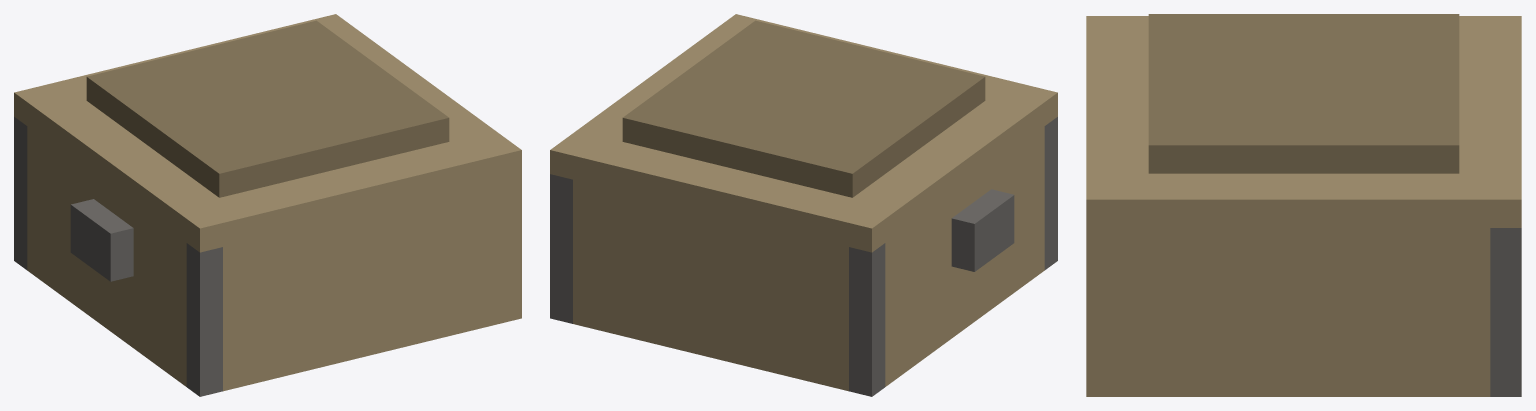
File: caja_madera_rota_01.glb
3 views of the same model, side by side, from view 1: azimuth 30°, elevation 25°; view 2: azimuth 150°, elevation 25°; view 3: azimuth 270°, elevation 25° (orthographic). The views are drawn at different scales.
Parts seen in each view (by area): view 1: caja_madera_rota; view 2: caja_madera_rota; view 3: caja_madera_rota.
Boxes of the visible parts, bbox=[...] form: caja_madera_rota: bbox=[14, 14, 521, 396]; caja_madera_rota: bbox=[550, 14, 1057, 396]; caja_madera_rota: bbox=[1086, 14, 1521, 396].
Size of the model in its own units: 1.07 by 0.5714 by 1.
